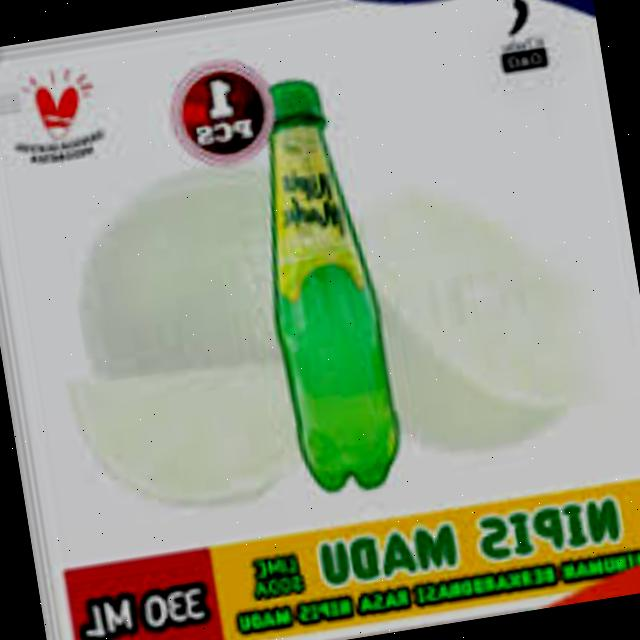trash: (234, 70, 412, 502)
